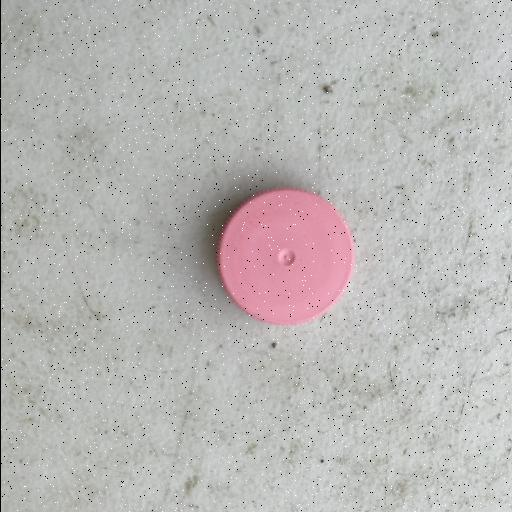Plastic: (213, 186, 357, 328)
